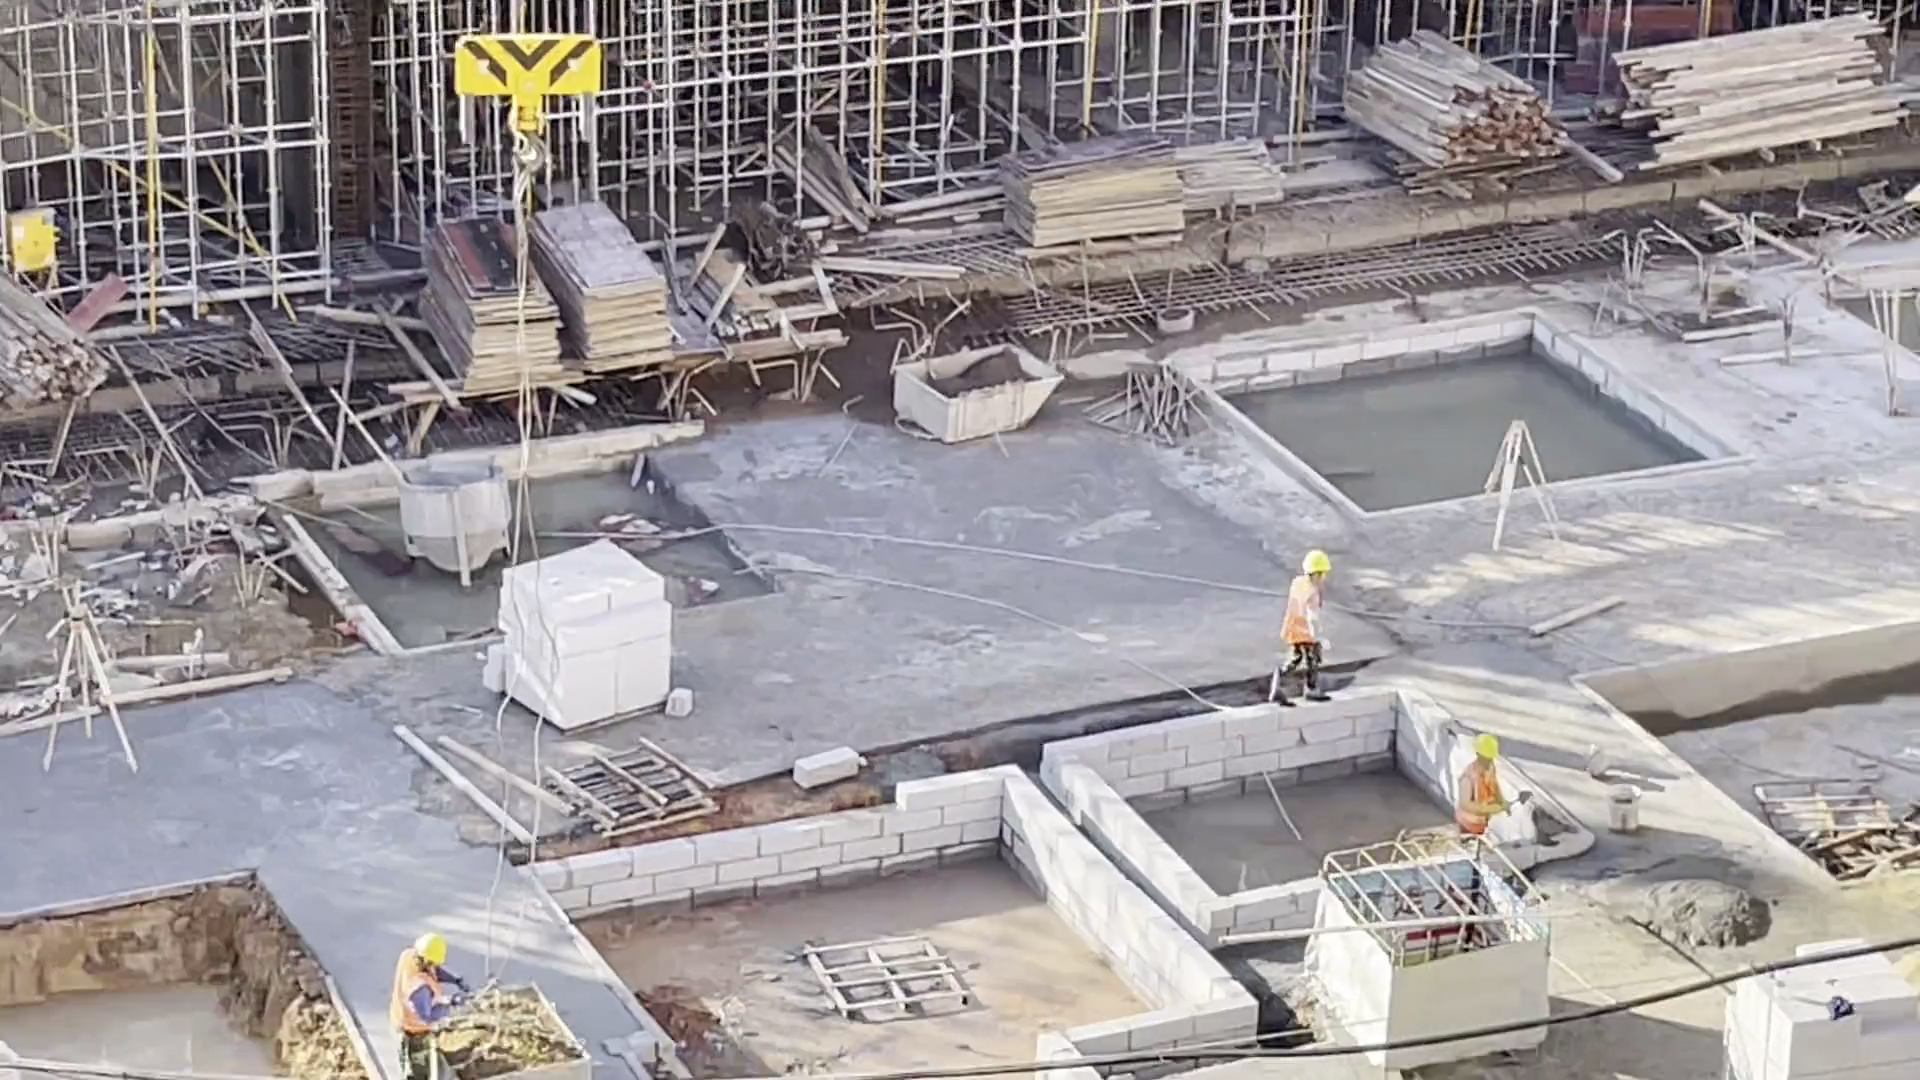board: (417, 212, 569, 400), (534, 193, 685, 380), (996, 130, 1192, 257)
brick: (494, 539, 667, 741), (1715, 982, 1920, 1078)
ebox: (8, 202, 76, 283)
helmet: (414, 929, 447, 968), (1472, 732, 1502, 764), (1298, 550, 1334, 574)
hook: (441, 24, 610, 180)
hopper: (888, 345, 1070, 445), (399, 448, 510, 587)
person: (388, 928, 474, 1077), (1276, 543, 1336, 708), (1450, 732, 1513, 837)
vest: (383, 954, 445, 1035), (1457, 762, 1497, 835), (1283, 577, 1323, 643)
wood: (1623, 11, 1920, 167), (1329, 26, 1574, 176), (3, 267, 123, 422)
